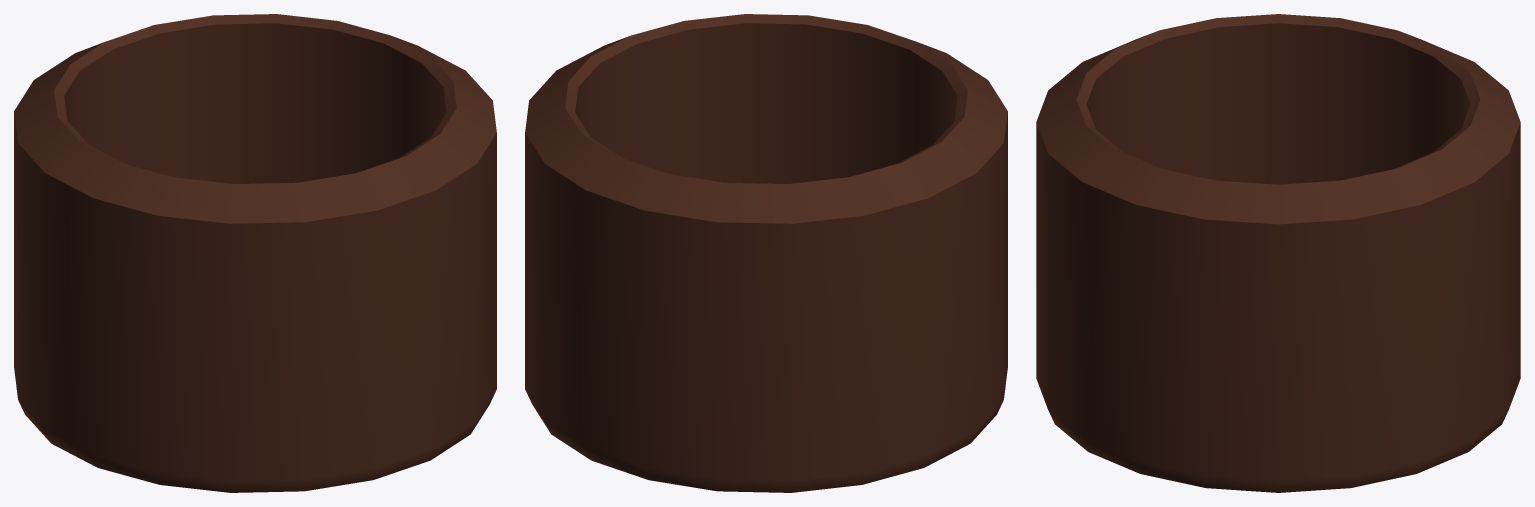
The model's file is Vaso1.obj.
3 renders of one model, left to right at view 1: azimuth 30°, elevation 25°; view 2: azimuth 150°, elevation 25°; view 3: azimuth 270°, elevation 25°, orthographic.
Visible parts, largest first — view 1: Vaso_pCylinder1; view 2: Vaso_pCylinder1; view 3: Vaso_pCylinder1.
Boxes of the visible parts, left/top/right/bottom form: Vaso_pCylinder1: left=14, top=14, right=496, bottom=492; Vaso_pCylinder1: left=525, top=14, right=1007, bottom=492; Vaso_pCylinder1: left=1036, top=14, right=1520, bottom=492.
Size of the model in its own units: 0.3286 by 0.225 by 0.3286.
1 material, 1 textured.
